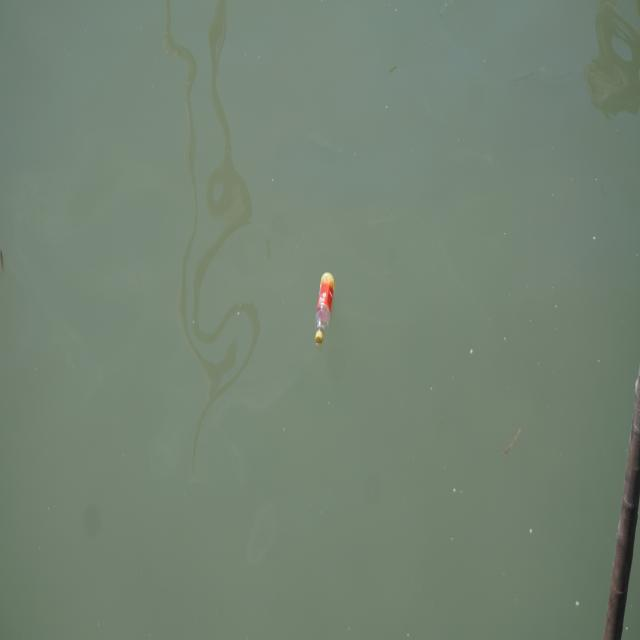Botol Plastik: (312, 269, 338, 350)
